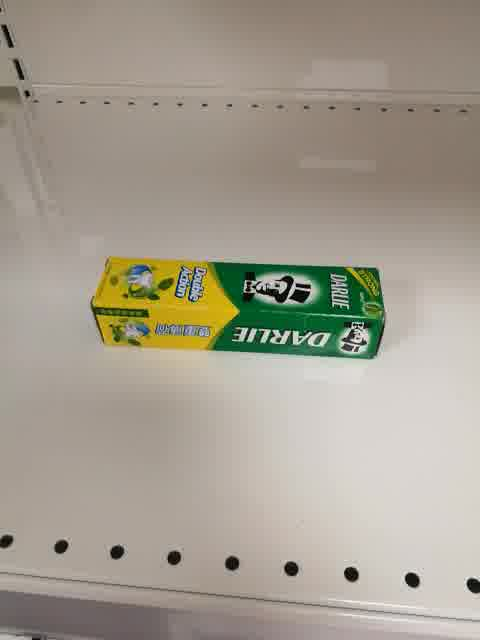toothpaste: (90, 256, 386, 360)
